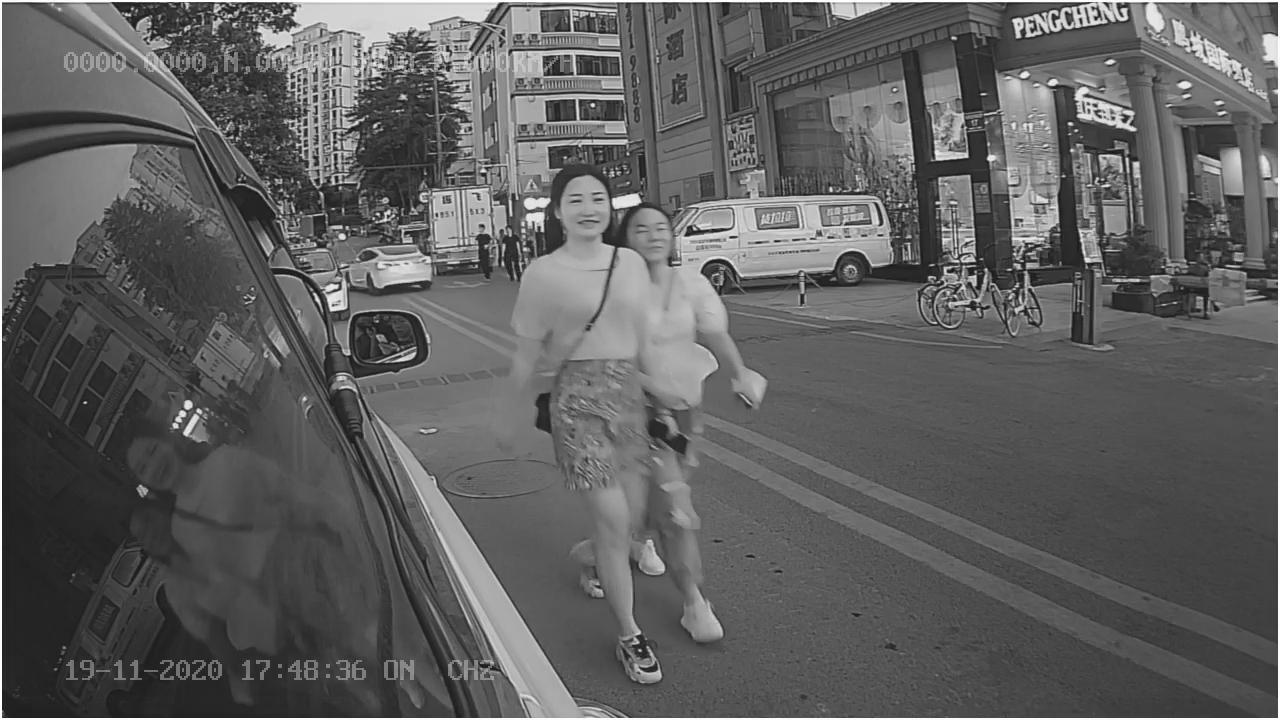person: (496, 166, 655, 573)
